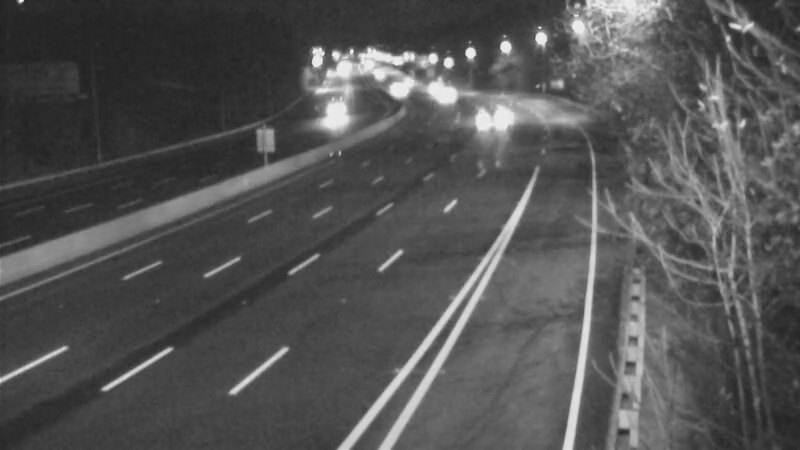vehicle: (413, 64, 463, 114), (375, 66, 425, 116), (420, 74, 470, 124), (474, 84, 524, 134), (313, 88, 363, 138)
